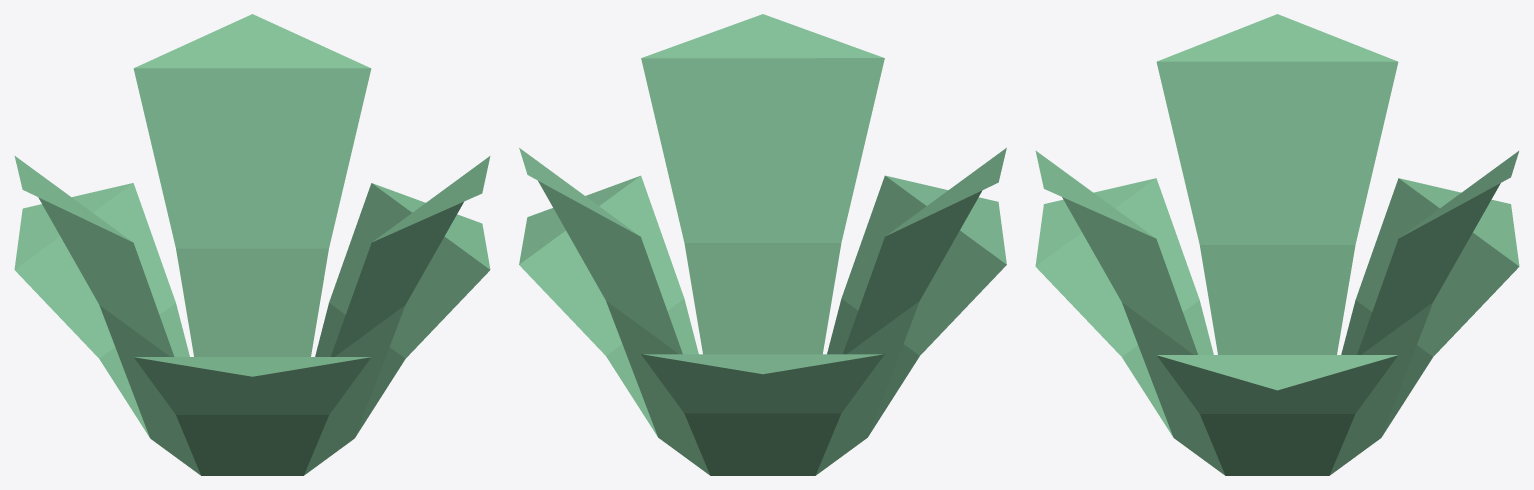
Rendered from grass.gltf.
The picture shows the model from 3 angles, left to right: view 1: azimuth 30°, elevation 25°; view 2: azimuth 150°, elevation 25°; view 3: azimuth 270°, elevation 25°; orthographic projection. The views are drawn at different scales.
Visible parts, largest first — view 1: plant; view 2: plant; view 3: plant.
Boxes of the visible parts, left/top/right/bottom form: plant: left=14, top=14, right=490, bottom=475; plant: left=519, top=14, right=1006, bottom=475; plant: left=1035, top=14, right=1519, bottom=475.
Bounding box in the file's own units: 0.9353 × 0.6072 × 0.8389.
